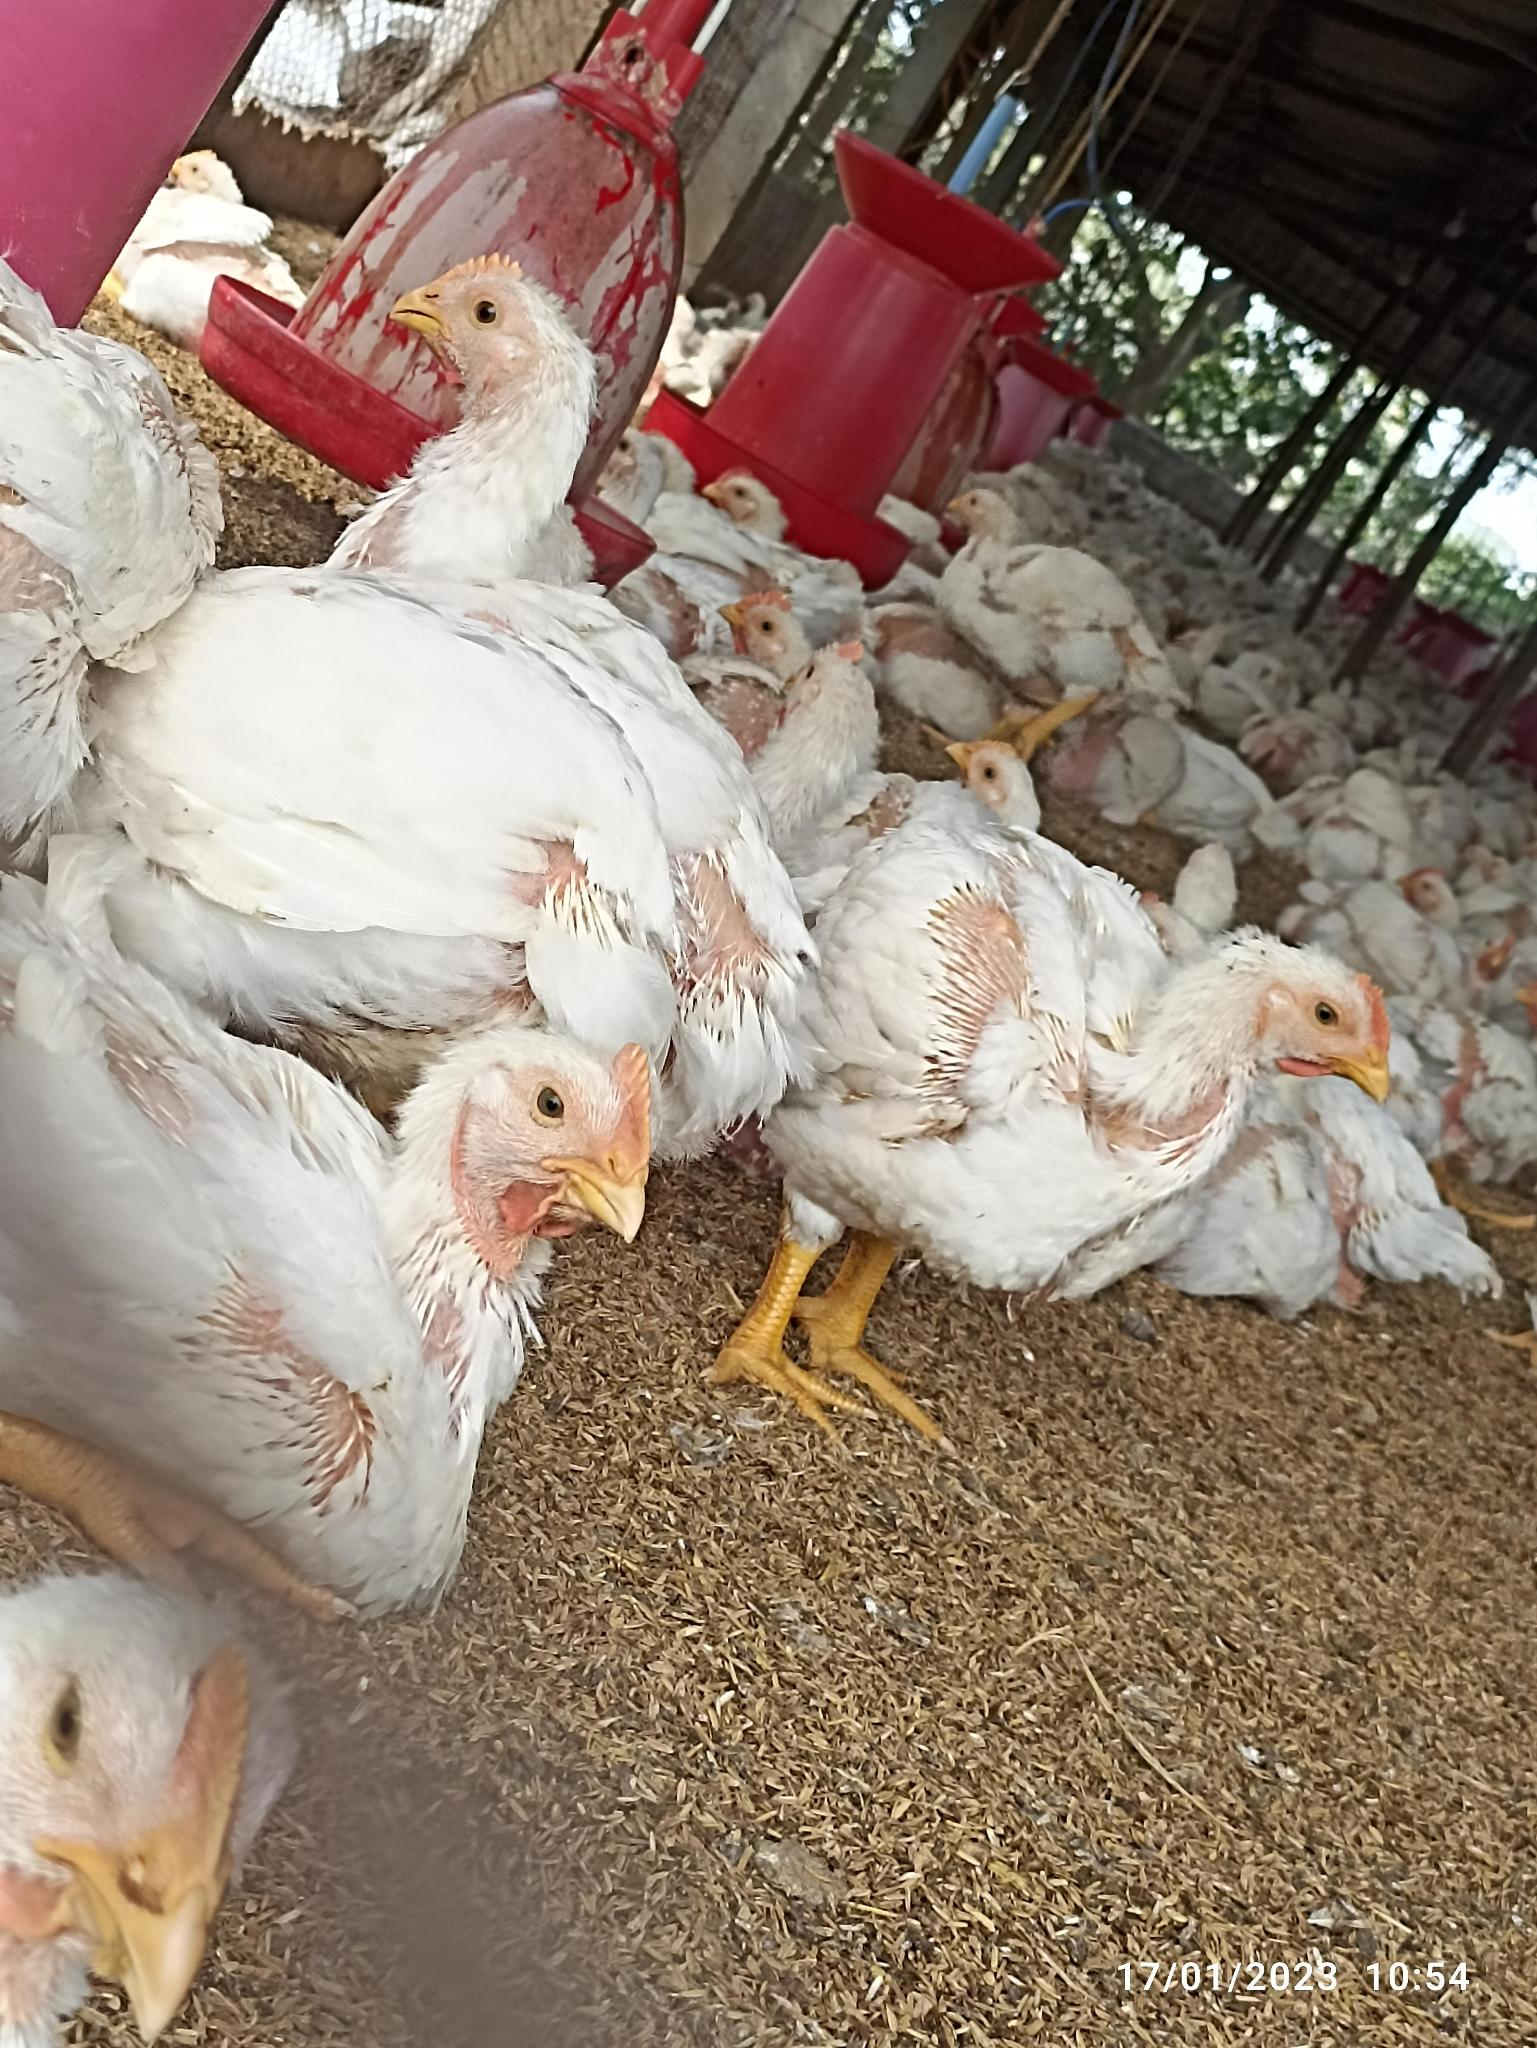Pollos: (158, 258, 775, 1018), (2, 1030, 672, 1544), (822, 826, 1405, 1285), (718, 604, 898, 910), (949, 487, 1174, 713)
